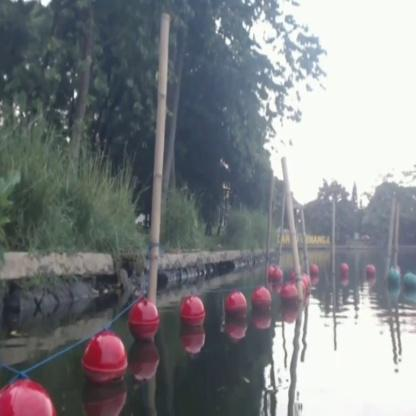green_buoy: (402, 269, 415, 291), (390, 266, 400, 288)
red_buoy: (84, 334, 122, 384), (0, 376, 48, 415), (128, 300, 156, 342), (181, 295, 200, 332), (224, 292, 244, 324), (254, 287, 272, 319), (280, 282, 297, 312), (268, 264, 283, 284), (310, 262, 320, 282), (300, 274, 308, 297), (366, 260, 374, 281), (340, 262, 348, 278)
